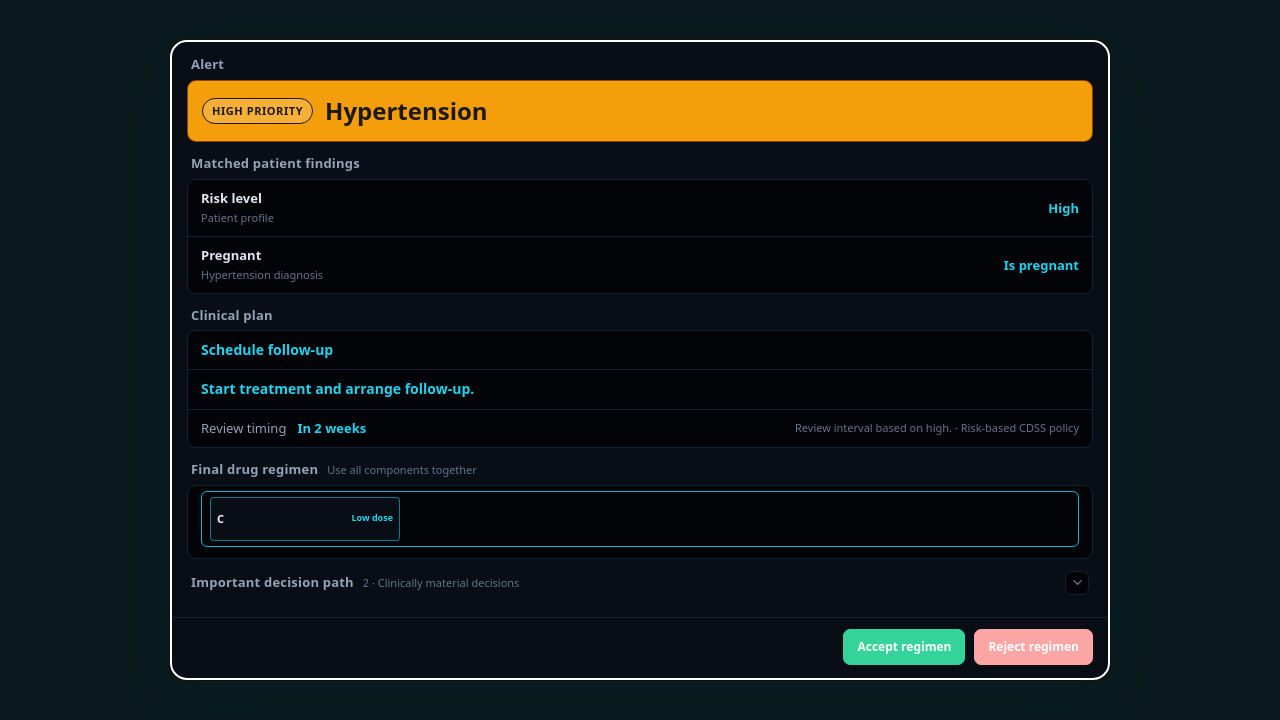
Test case: TraversalResultModal › shows every medicine in a group when no subgroup is explicit
Expected: the text "C" is shown, [217,511,224,526]
Click the button with class "cds-regimen-component" at [305, 519], box [210,497,400,541]
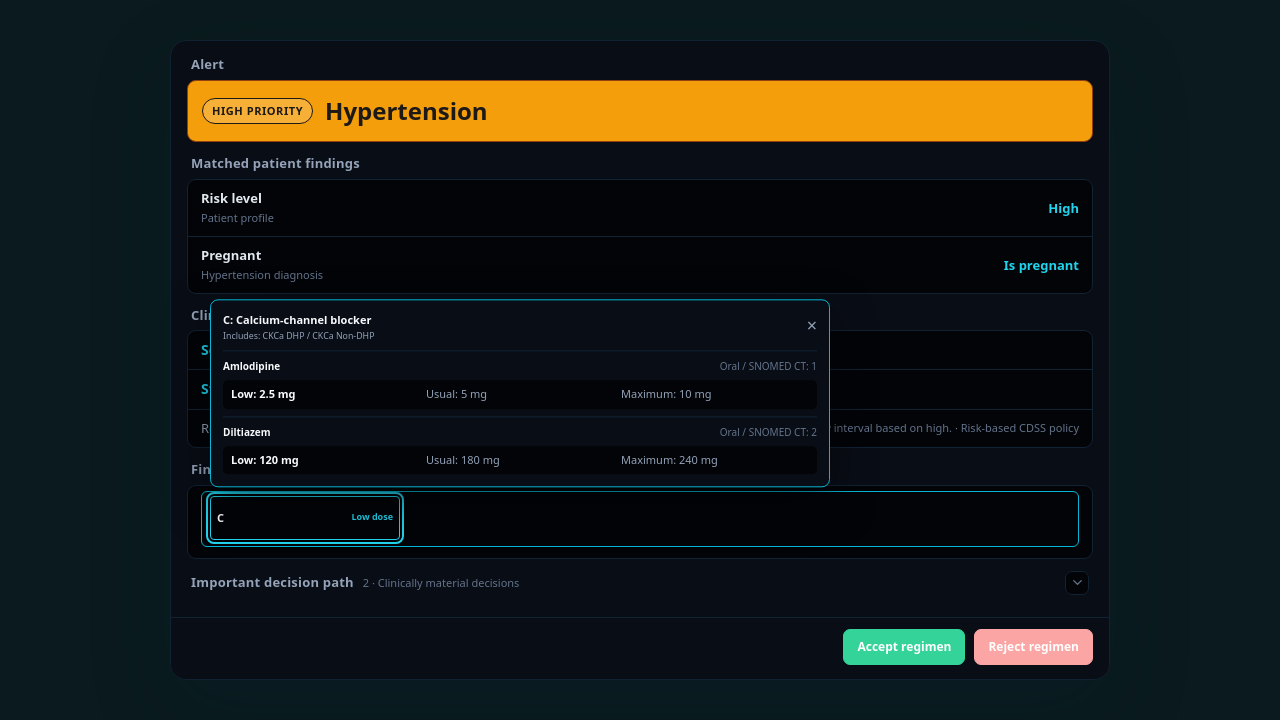
Result: the text "Amlodipine" is shown at [223,360,280,375]
Result: the text "Diltiazem" is shown at [223,425,270,440]
